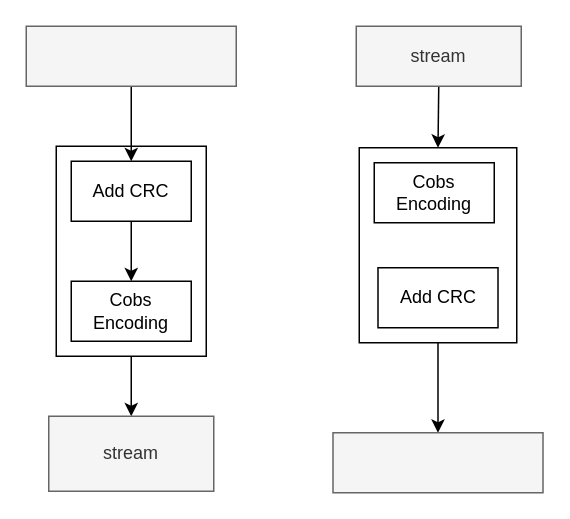
Some shapes in this 570 by 519 pixel diagram are drawn without their labels. The shapes that lost their labels are listed below. From the top down, each one's centre as x and y in pixels, then its label:
the point at 130,55: list[DATA]|data
the point at 437,462: list[DATA]
